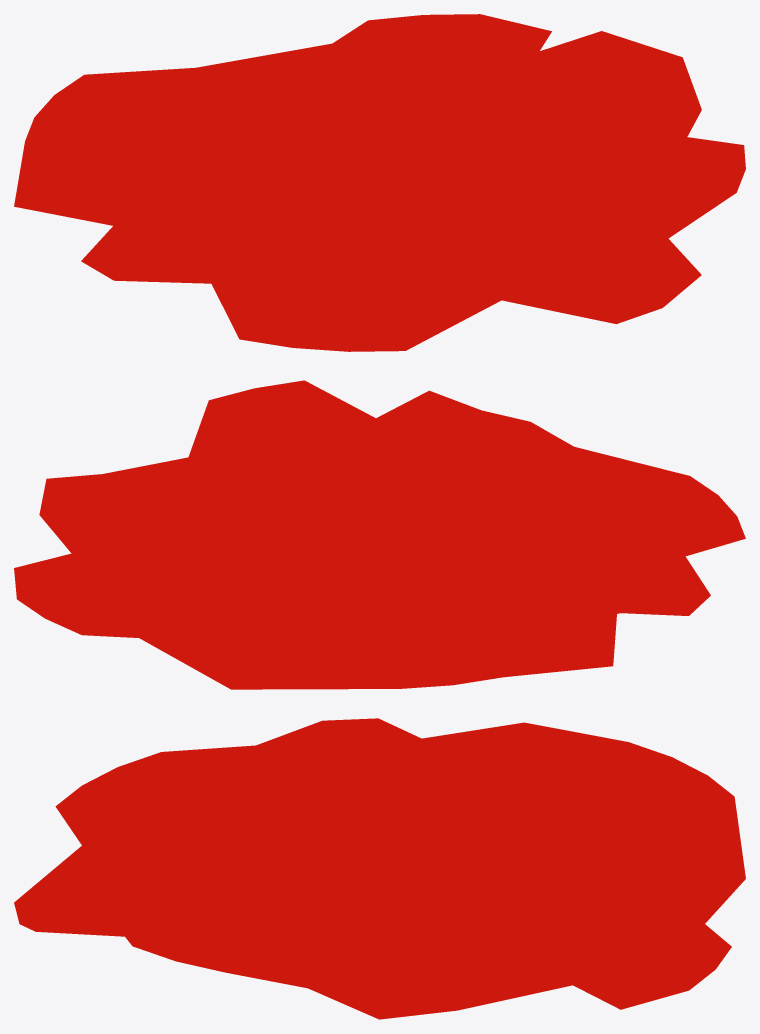
The model's file is macchia_ketchup.fbx.
3 renders of one model, top to bottom at view 1: azimuth 30°, elevation 25°; view 2: azimuth 150°, elevation 25°; view 3: azimuth 270°, elevation 25°, orthographic. The views are drawn at different scales.
Parts seen in each view (by area): view 1: macchia_ketchup; view 2: macchia_ketchup; view 3: macchia_ketchup.
Boxes of the visible parts, x1,y1,x2,y2 form: macchia_ketchup: [14, 14, 745, 351]; macchia_ketchup: [14, 380, 745, 689]; macchia_ketchup: [14, 718, 745, 1019].
Size of the model in its own units: 256 by 17.12 by 255.
